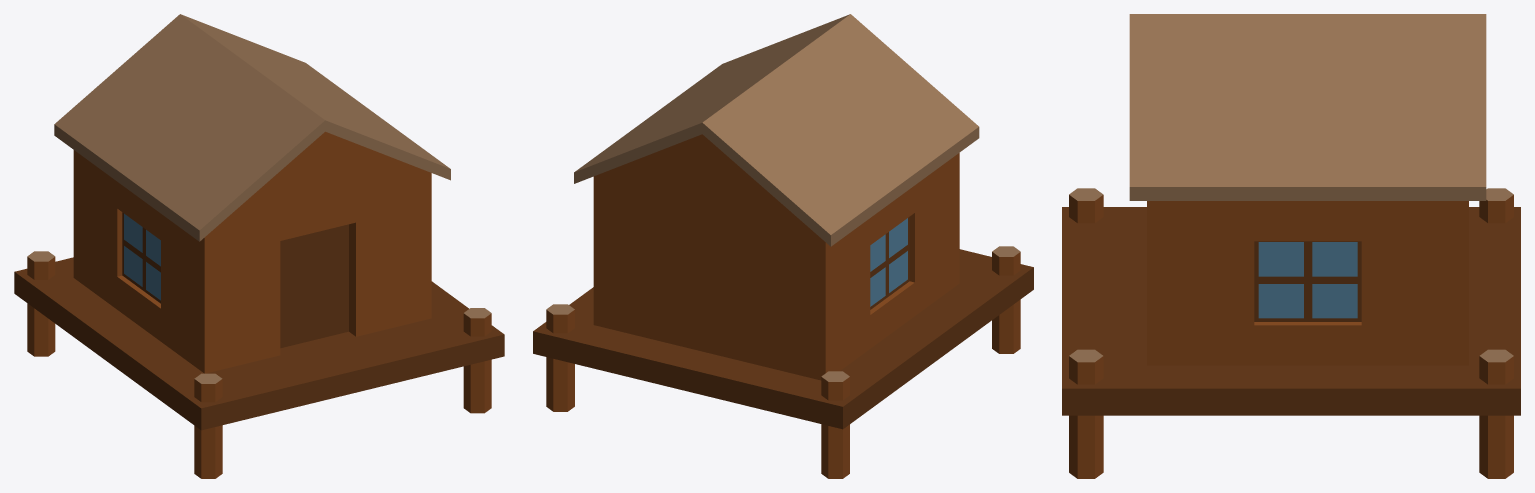
Rendered from Cabin_tex.fbx.
3 views of the same model, side by side, from view 1: azimuth 30°, elevation 25°; view 2: azimuth 150°, elevation 25°; view 3: azimuth 270°, elevation 25° (orthographic). The views are drawn at different scales.
Parts seen in each view (by area): view 1: Cabin_tex; view 2: Cabin_tex; view 3: Cabin_tex.
Boxes of the visible parts, x1,y1,x2,y2 form: Cabin_tex: [14, 14, 504, 478]; Cabin_tex: [533, 14, 1033, 478]; Cabin_tex: [1062, 14, 1520, 478].
Bounding box in the file's own units: 3.97 × 3.85 × 4.24.
